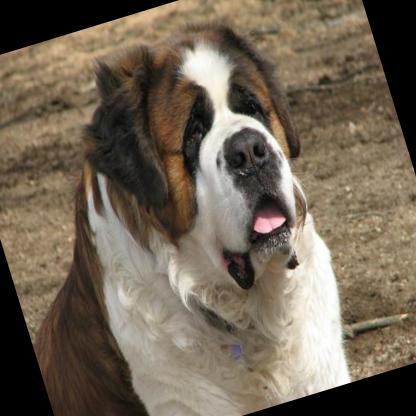Saint_Bernard: (0, 6, 369, 416)
